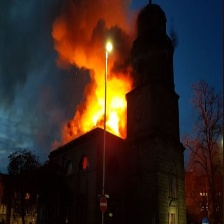fire: (96, 82, 125, 136)
smoke: (46, 1, 143, 140)
